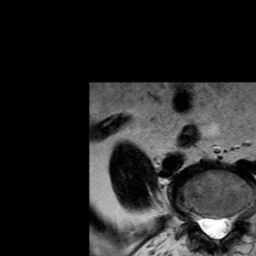CCS_normal: (211, 207, 221, 249)
LFS_normal: (232, 201, 241, 232)
LLS_normal: (222, 206, 232, 242)
RFS_normal: (190, 201, 200, 233)
RLS_normal: (200, 206, 211, 244)
